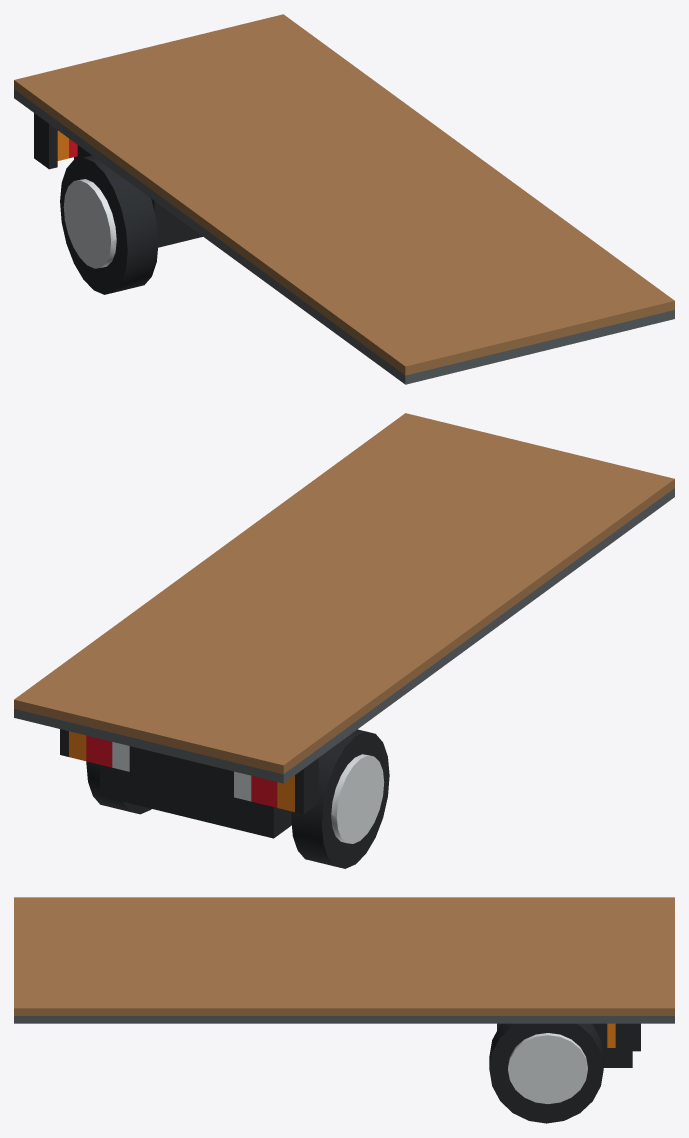
The model's file is trailer.fbx.
The picture shows the model from 3 angles, top to bottom: view 1: azimuth 30°, elevation 25°; view 2: azimuth 150°, elevation 25°; view 3: azimuth 270°, elevation 25°; orthographic projection. The views are drawn at different scales.
Visible parts, largest first — view 1: group_0_2829873, group_0_14541540 1.001; view 2: group_0_2829873, group_0_14541540 1.001, group_0_2829873 1; view 3: group_0_2829873, group_0_2829873 1.
Part boxes in pixels (x1,y1,x2,y2): group_0_2829873: (14, 14, 674, 384); group_0_14541540 1.001: (60, 155, 158, 294); group_0_2829873: (14, 413, 674, 838); group_0_14541540 1.001: (291, 729, 389, 868); group_0_2829873 1: (86, 761, 151, 814); group_0_2829873: (14, 897, 674, 1067); group_0_2829873 1: (489, 1023, 603, 1123).
Size of the model in its own units: 3120 by 1711 by 7800.
